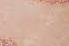plaque psoriasis: (20, 0, 69, 7), (0, 29, 20, 46)
